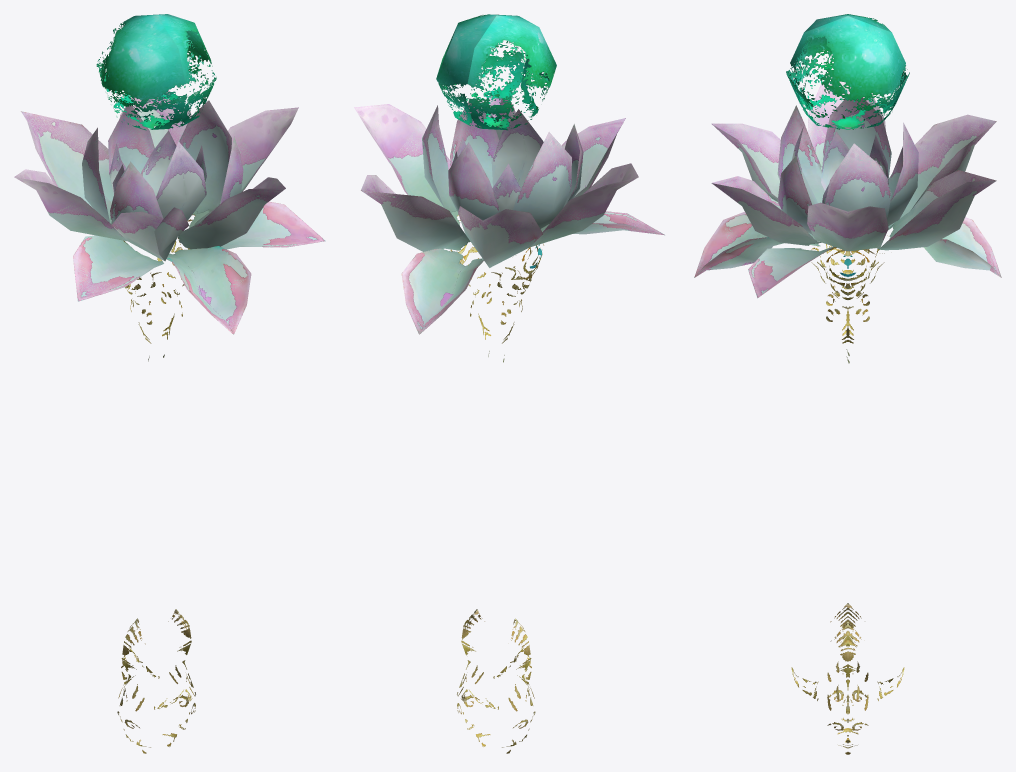
The model's file is 28pdz_4ba0d60f.glb.
The picture shows the model from 3 angles, left to right: view 1: azimuth 30°, elevation 25°; view 2: azimuth 150°, elevation 25°; view 3: azimuth 270°, elevation 25°; orthographic projection.
Bounding box in the file's own units: 0.5313 × 1.32 × 0.4991.
Materials: 1 (1 with a texture image).
